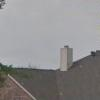Chimney: (52, 40, 72, 74)
